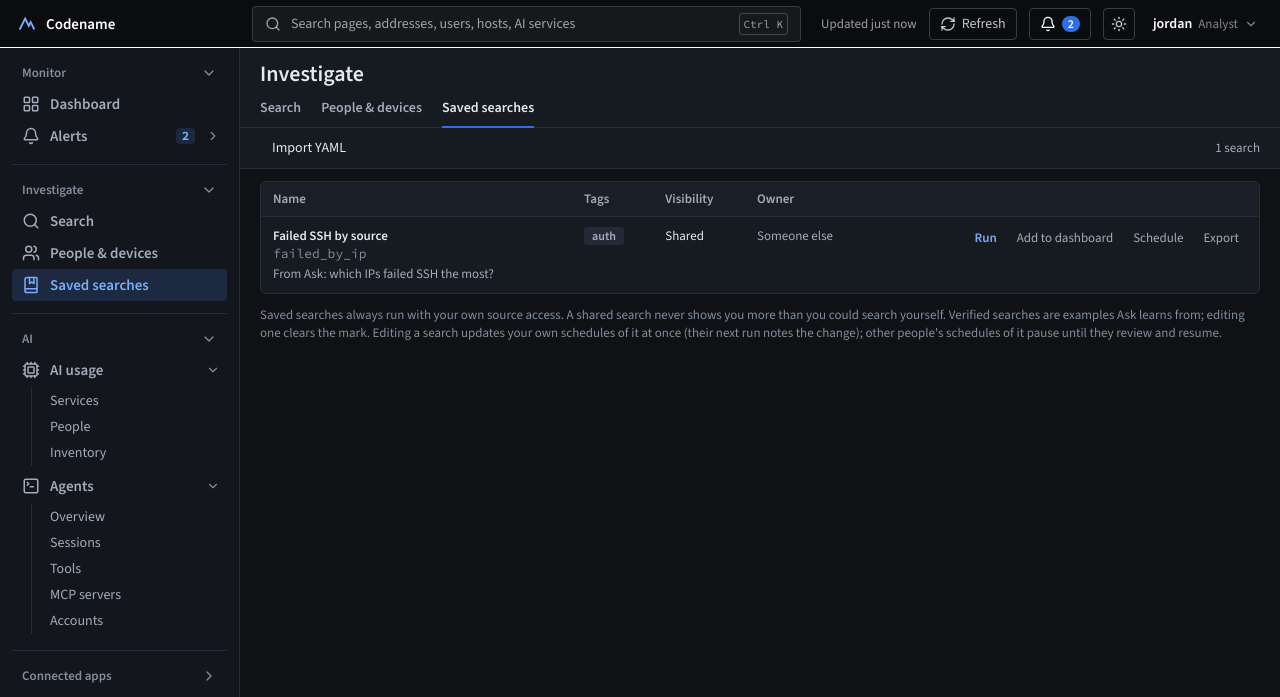
Schedules › opens the form with a saved search chosen from Saved searches
This screenshot has width=1280, height=697.
Click the button with aria-label "Schedule Failed SSH by source" at (1158, 238), box [1125, 227, 1192, 249]
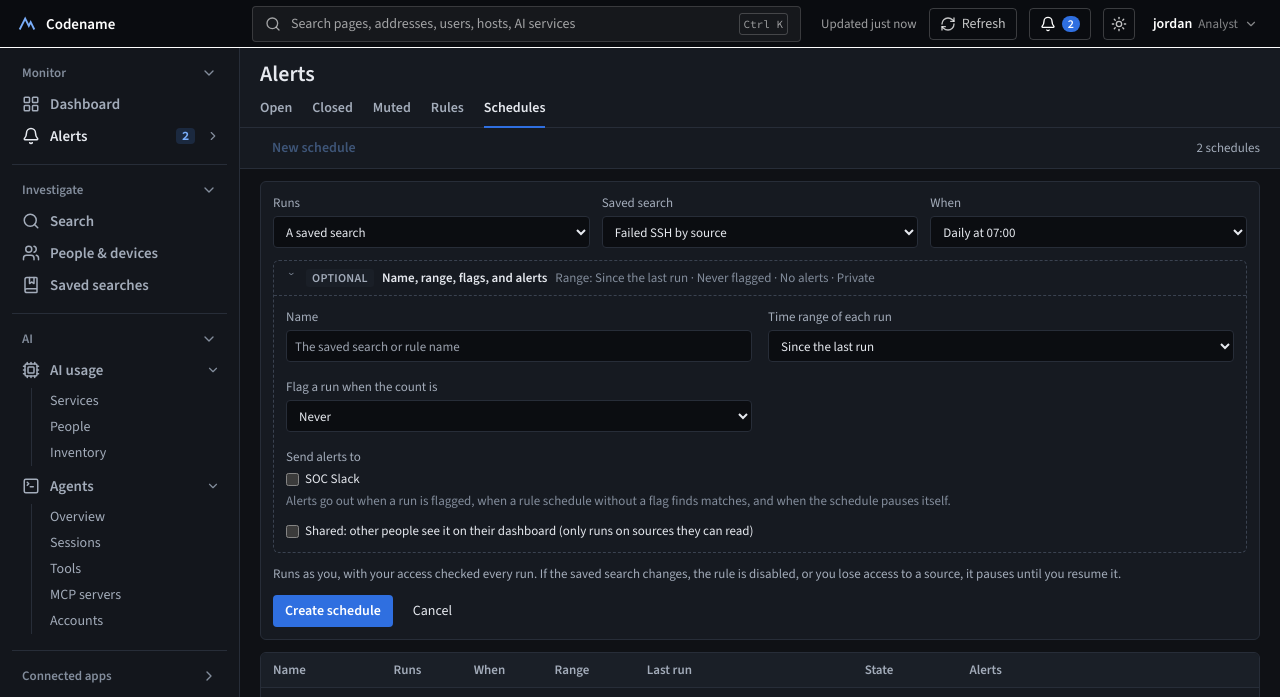
expect the dropdown labelled "Saved search" shows "Failed SSH by source": met, box [602, 216, 918, 248]
